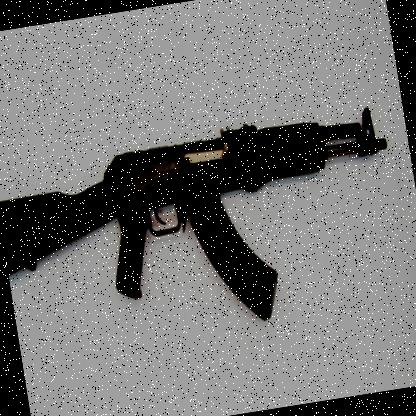rifle: (0, 74, 411, 367)
